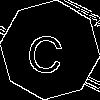C: (25, 25, 67, 75)
